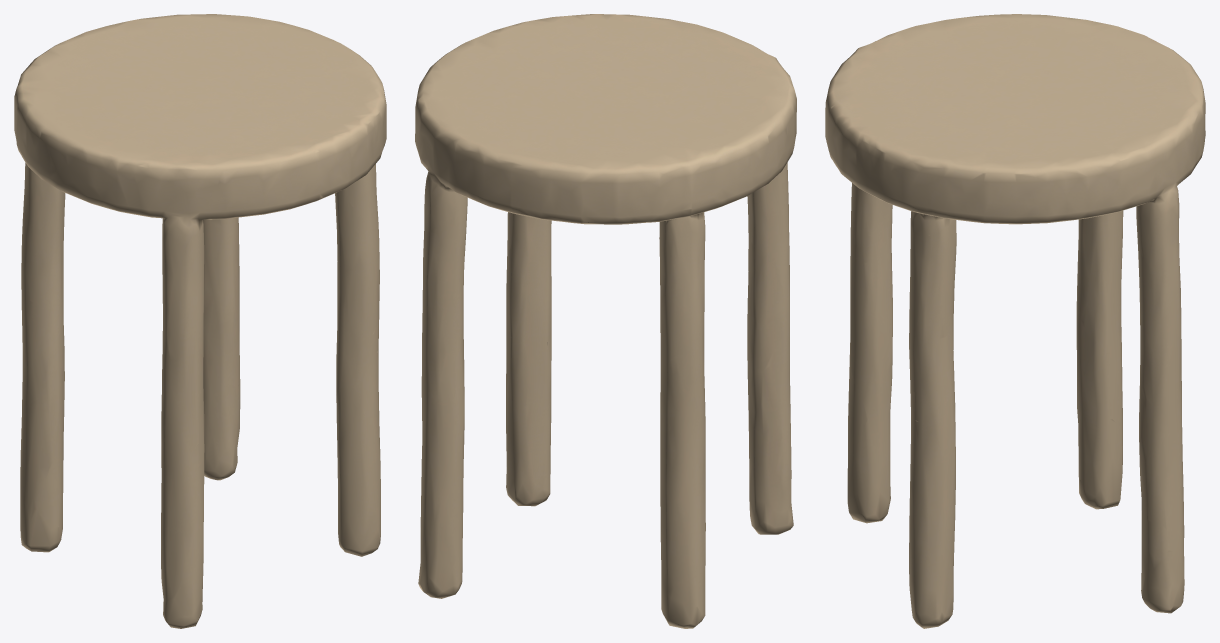
File: raw_stool_tripo_std_pbr.glb
The picture shows the model from 3 angles, left to right: view 1: azimuth 30°, elevation 25°; view 2: azimuth 150°, elevation 25°; view 3: azimuth 270°, elevation 25°; orthographic projection. The views are drawn at different scales.
Visible parts, largest first — view 1: tripo_node_32438ab1-be86-42db-bebc-e79e73333e70; view 2: tripo_node_32438ab1-be86-42db-bebc-e79e73333e70; view 3: tripo_node_32438ab1-be86-42db-bebc-e79e73333e70.
Boxes of the visible parts, x1=… form: tripo_node_32438ab1-be86-42db-bebc-e79e73333e70: x1=14, y1=14, x2=386, y2=628; tripo_node_32438ab1-be86-42db-bebc-e79e73333e70: x1=415, y1=14, x2=796, y2=628; tripo_node_32438ab1-be86-42db-bebc-e79e73333e70: x1=825, y1=14, x2=1205, y2=628.
Size of the model in its own units: 0.7278 by 1 by 0.7286.
Materials: 1 (1 with a texture image).
